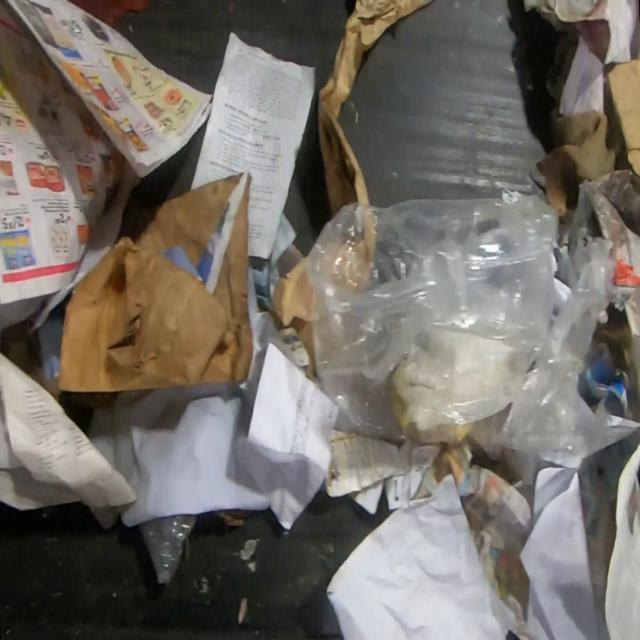cardboard: (57, 172, 253, 393), (606, 57, 640, 179)
rigid_plastic: (65, 0, 150, 29)
soft_plastic: (304, 190, 639, 462), (139, 513, 198, 587)
